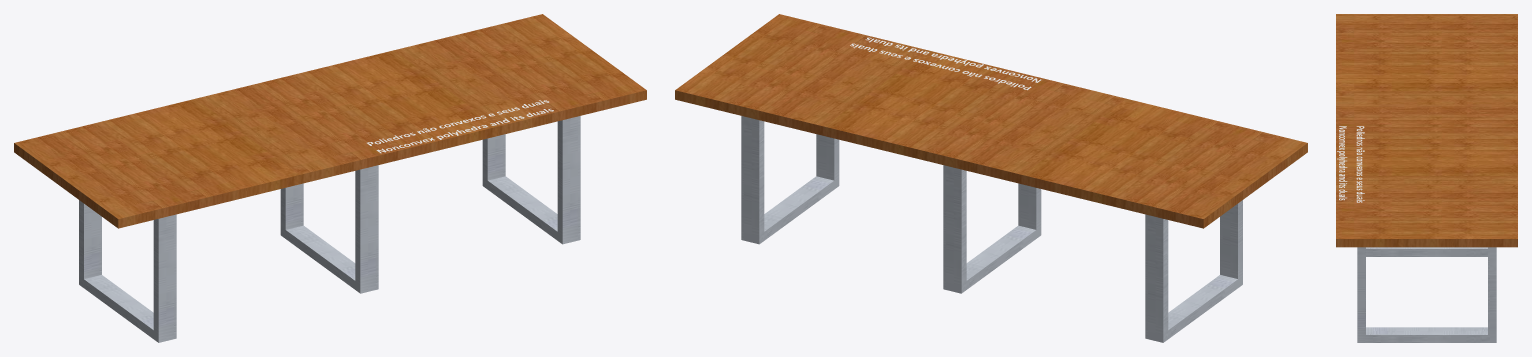
The model's file is mesa_nonConvex6.glb.
3 views of the same model, side by side, from view 1: azimuth 30°, elevation 25°; view 2: azimuth 150°, elevation 25°; view 3: azimuth 270°, elevation 25° (orthographic). The views are drawn at different scales.
Parts seen in each view (by area): view 1: object 1, Composant#1 (×3), Poliedros não co; view 2: object 1, Composant#1 (×3), Poliedros não co; view 3: object 1, Composant#1 (×2), Poliedros não co.
Boxes of the visible parts, x1,y1,x2,y2 form: object 1: (14,14,646,228); Composant#1 (×3): (79,116,580,342); Poliedros não co: (367,100,553,153); object 1: (675,14,1307,228); Composant#1 (×3): (741,116,1242,342); Poliedros não co: (850,37,1041,90); object 1: (1336,14,1517,247); Composant#1 (×2): (1357,247,1496,342); Poliedros não co: (1337,126,1364,202).
Bounding box in the file's own units: 2.93 × 0.7711 × 1.
3 materials, 2 textured.
